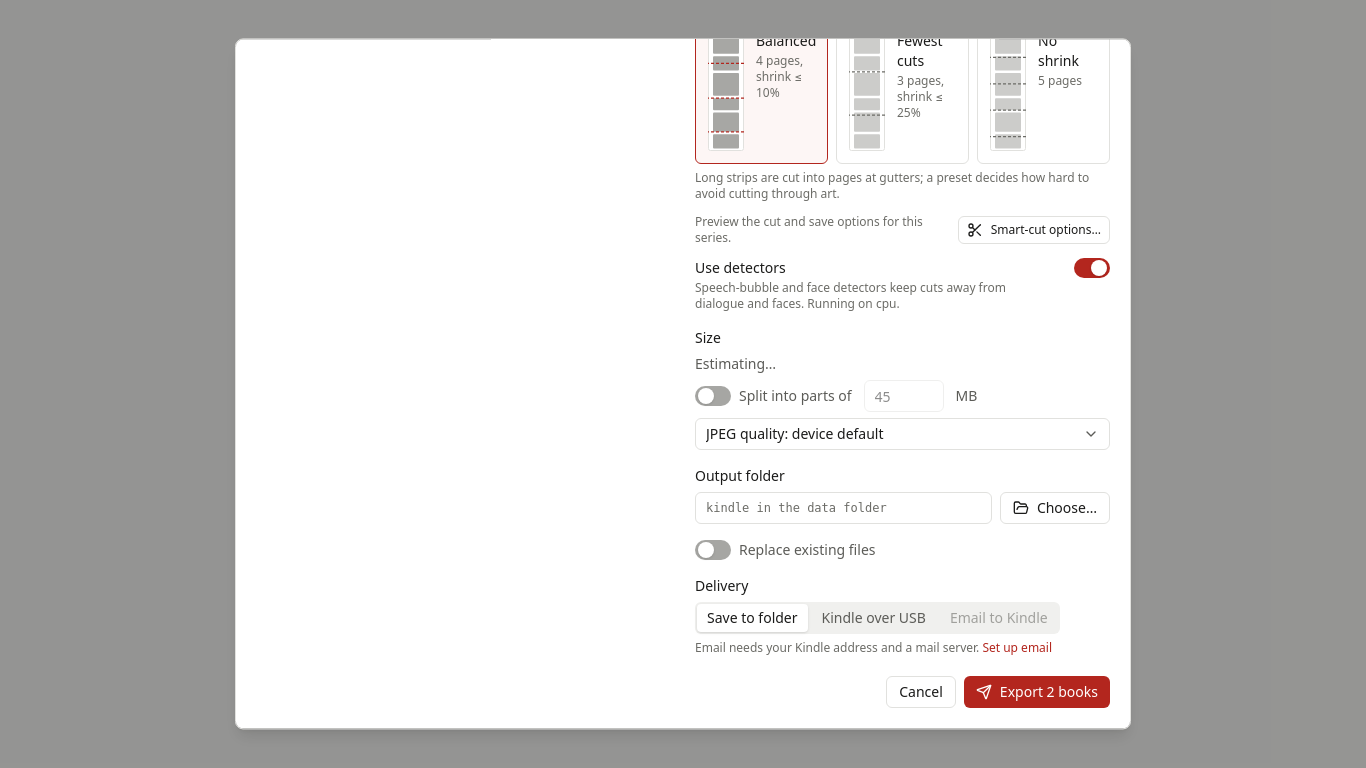
it: export dialog: bundles › previews the files and exports every planned book
(page scrolled)
Click the button "Export 2 books" at [1037, 692], box [964,676,1110,708]
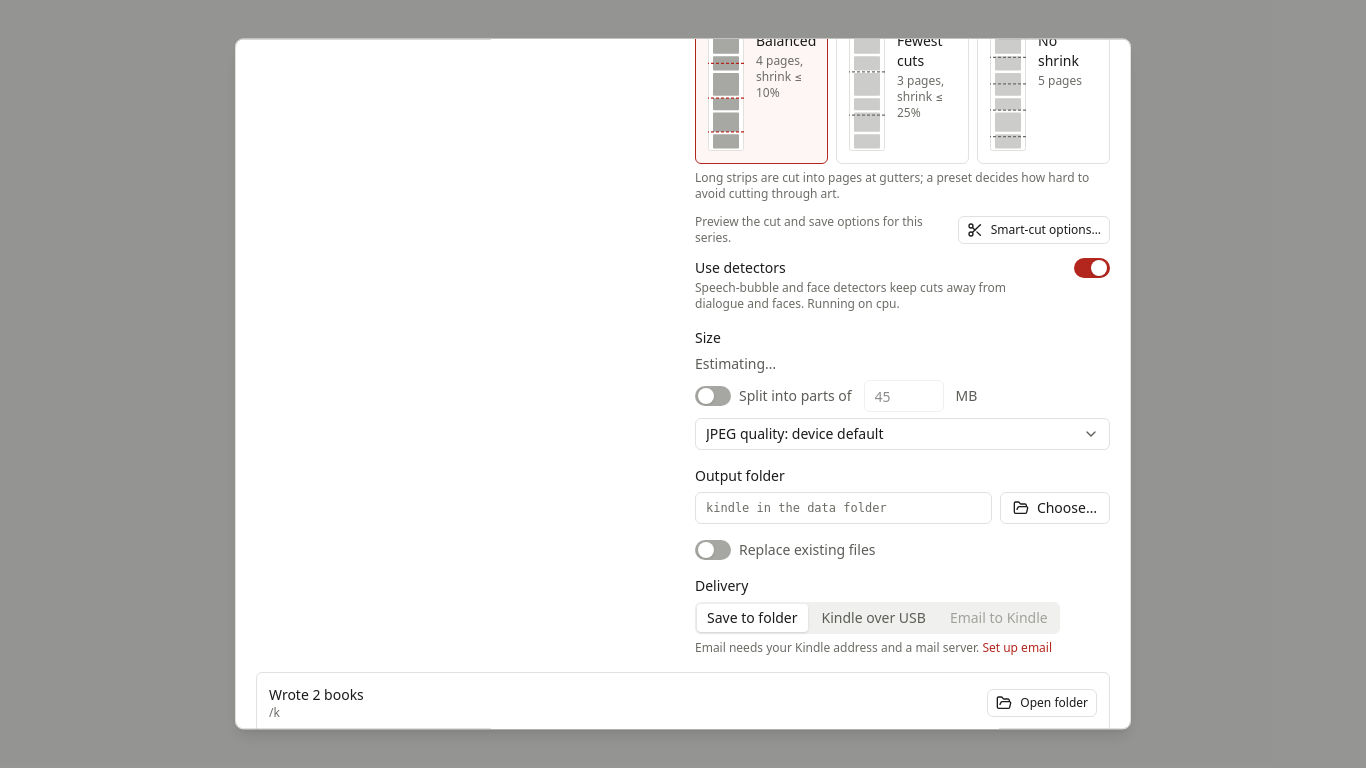
Expected: the text "Wrote 2 books" is shown, [269,685,364,705]
